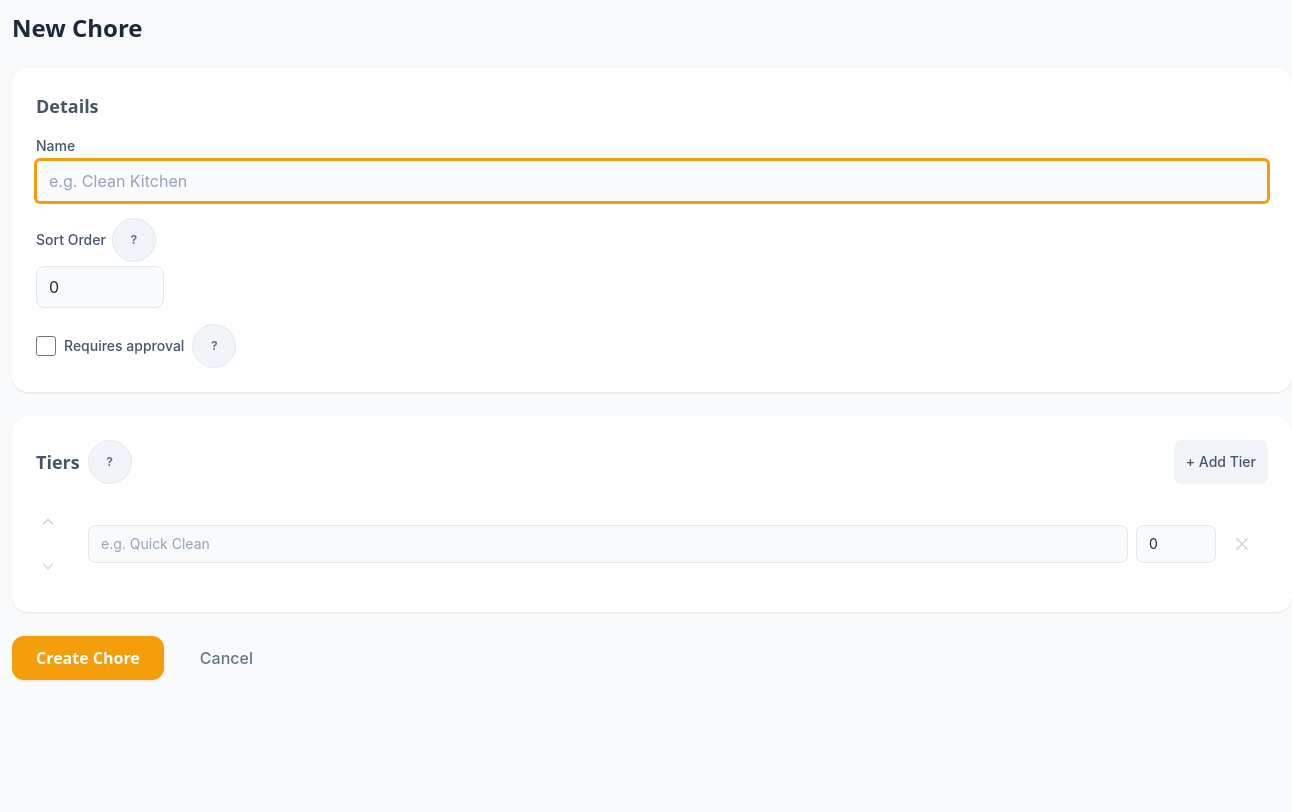
it: AdminChoreForm › shows validation error when no tiers have names
Type "Test Chore" into the field labelled "Name" at (652, 181), box [36,160,1268,202]
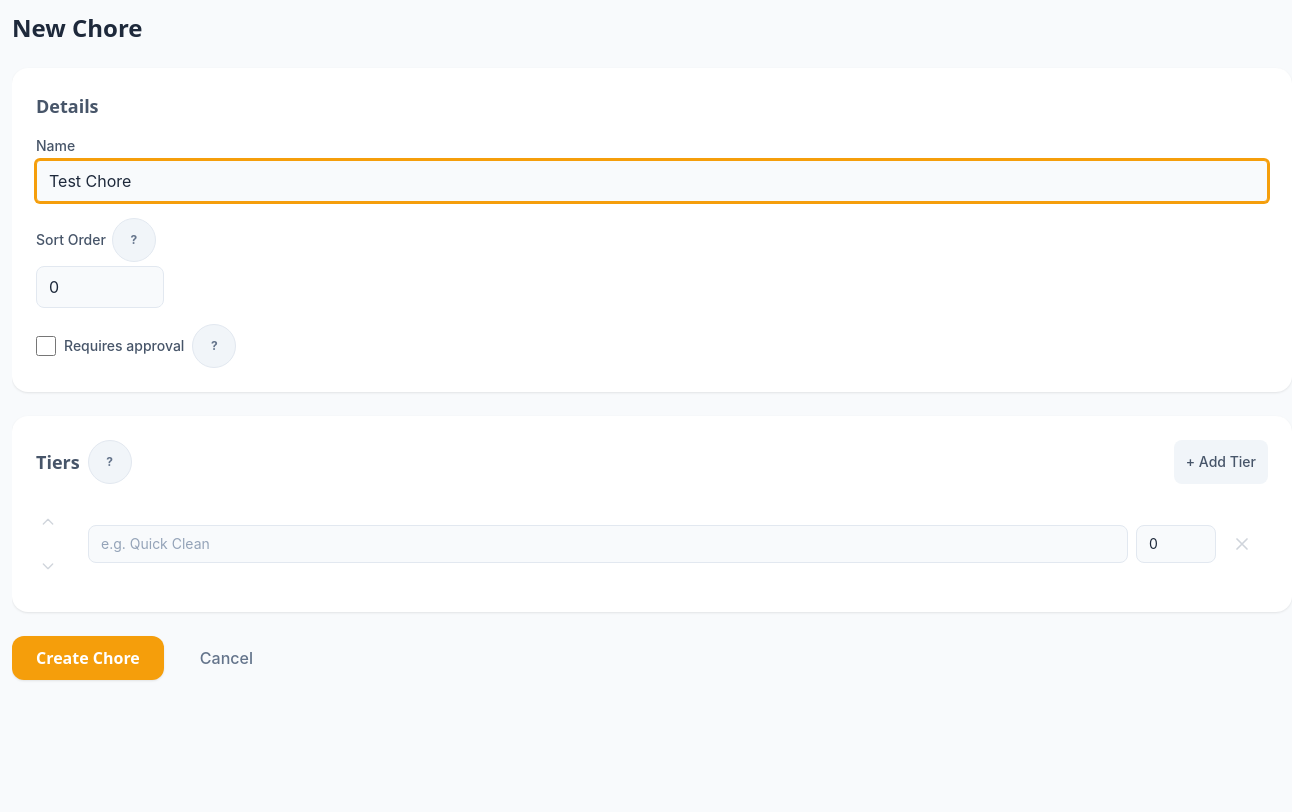
Click the button "Create Chore" at (88, 658), box [12,636,164,680]
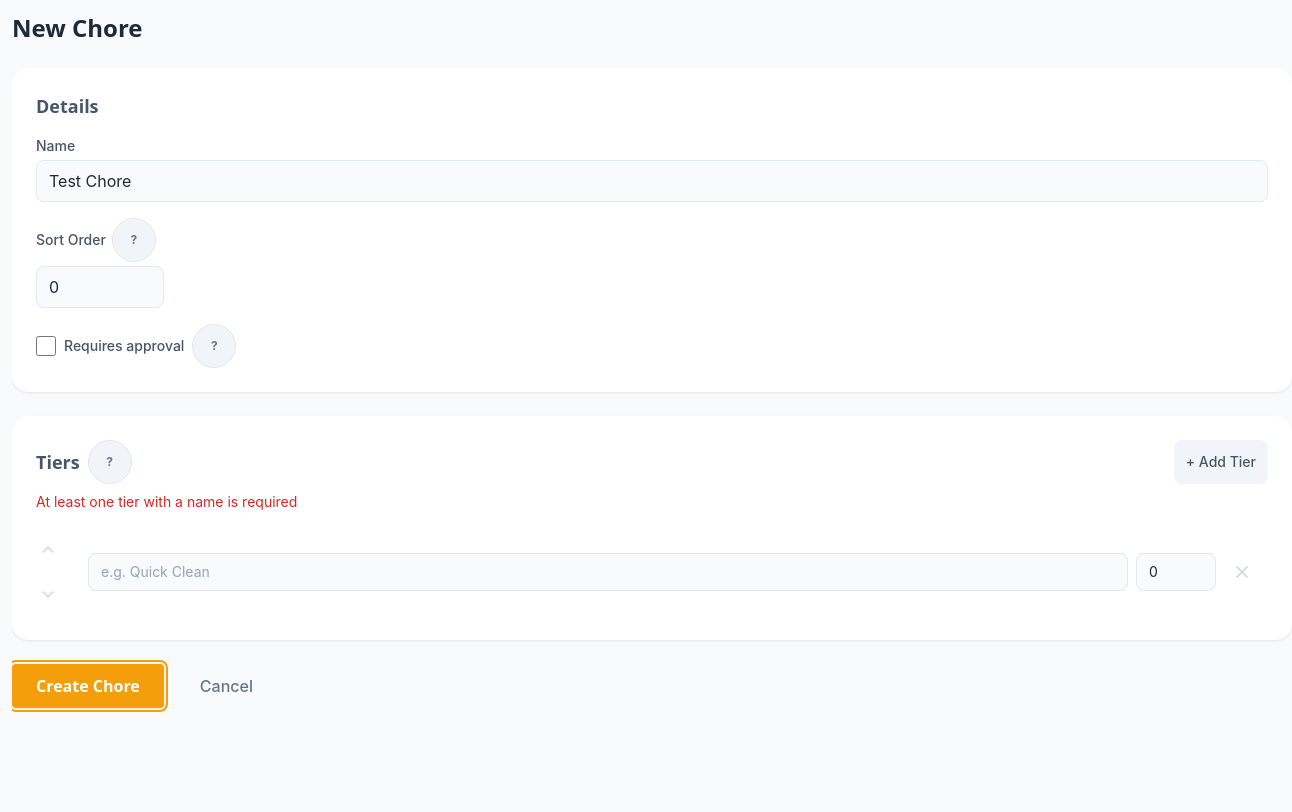
Expected: the text "At least one tier with a name is required" is shown, [36,493,297,510]
